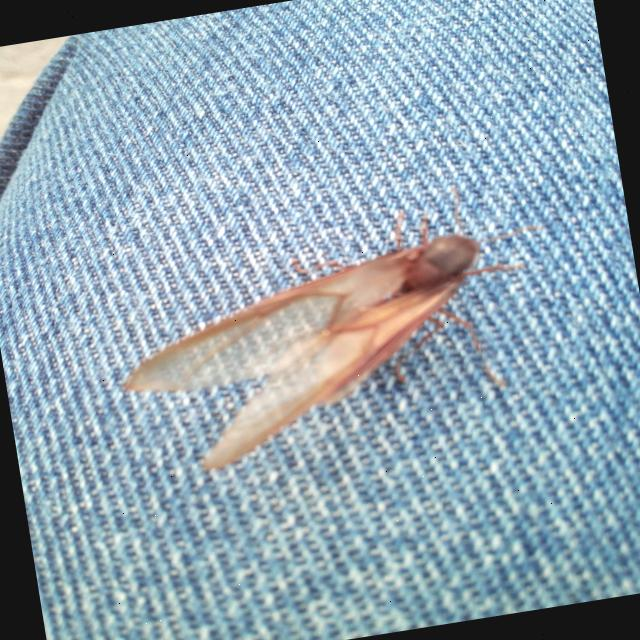Alive-Male-Alate: (101, 167, 574, 488)
